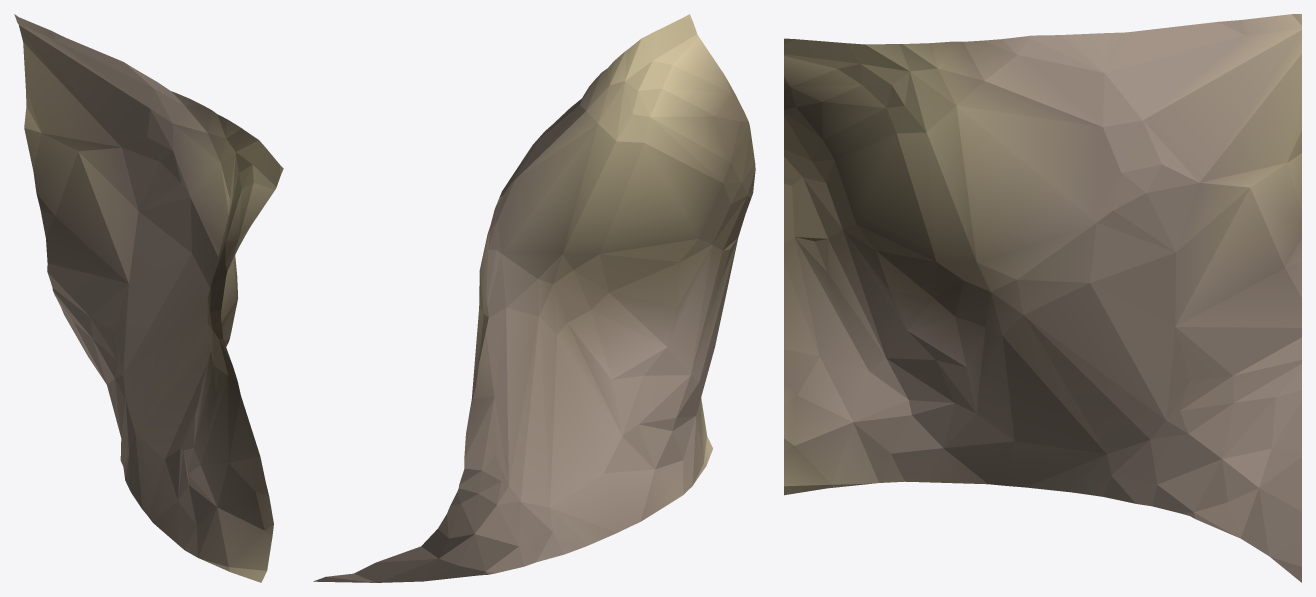
Rendered from bisect-8-2-7.gltf.
3 renders of one model, left to right at view 1: azimuth 30°, elevation 25°; view 2: azimuth 150°, elevation 25°; view 3: azimuth 270°, elevation 25°, orthographic. The views are drawn at different scales.
Visible parts, largest first — view 1: bisect-8-2-7; view 2: bisect-8-2-7; view 3: bisect-8-2-7.
Boxes of the visible parts, left/top/right/bottom form: bisect-8-2-7: left=14, top=14, right=283, bottom=582; bisect-8-2-7: left=313, top=14, right=755, bottom=582; bisect-8-2-7: left=784, top=14, right=1301, bottom=582.
Bounding box in the file's own units: 10.1 × 20 × 20.
